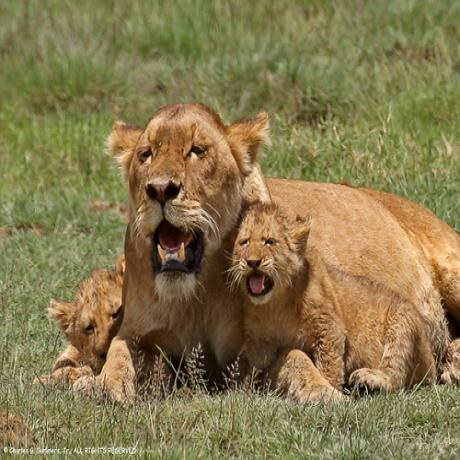Lion: (105, 101, 459, 384), (229, 200, 438, 389), (51, 256, 140, 394)
